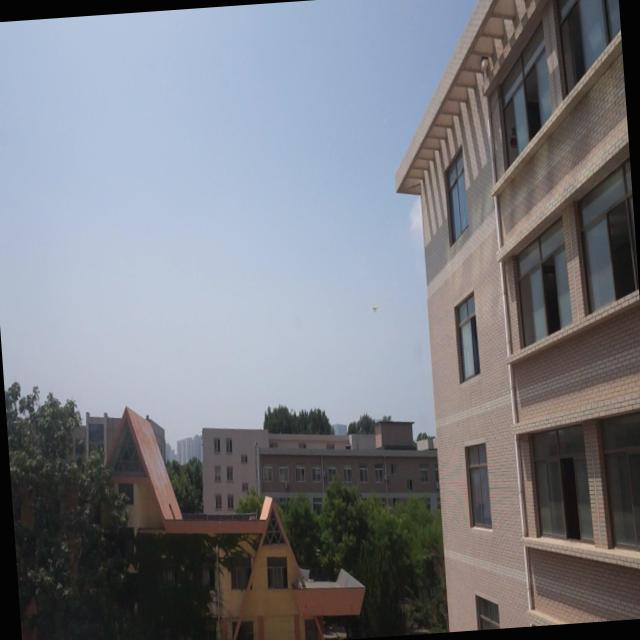drone: (368, 301, 378, 313)
